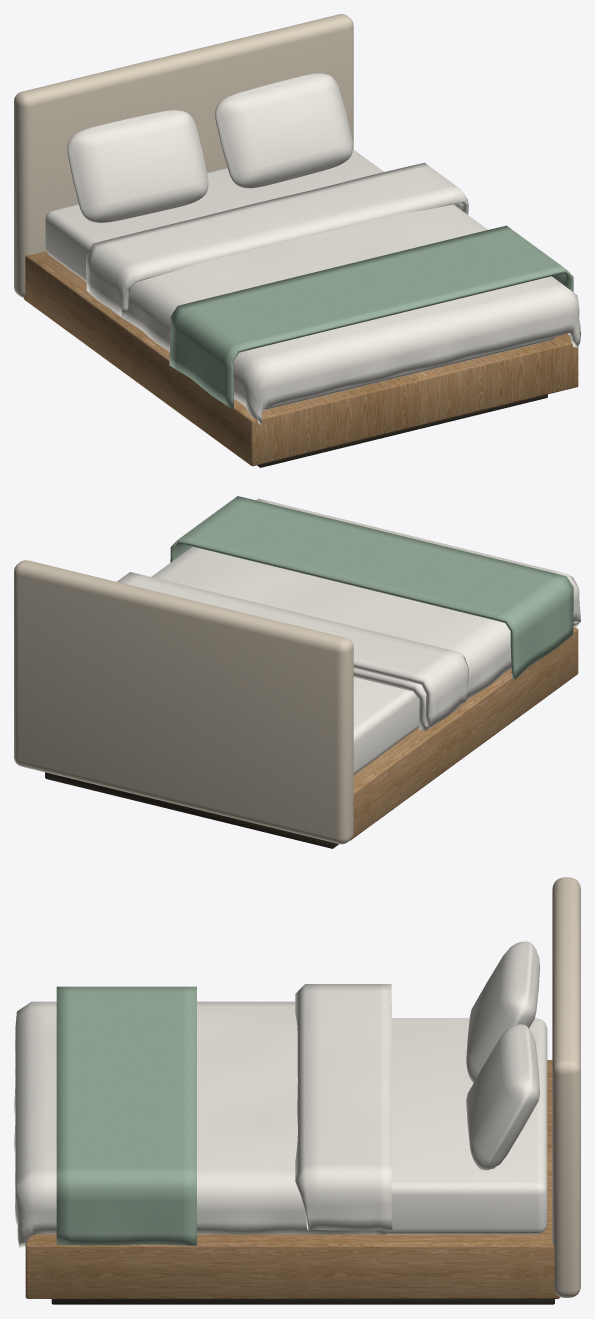
File: bed.glb
The picture shows the model from 3 angles, top to bottom: view 1: azimuth 30°, elevation 25°; view 2: azimuth 150°, elevation 25°; view 3: azimuth 270°, elevation 25°; orthographic projection. The views are drawn at different scales.
Parts seen in each view (by area): view 1: bed; view 2: bed; view 3: bed.
Part boxes in pixels (x1,y1,x2,y2): bed: (14,14,580,467); bed: (14,496,580,848); bed: (14,877,580,1304).
Size of the model in its own units: 1.81 by 1.08 by 2.18.
5 materials, 4 textured.
